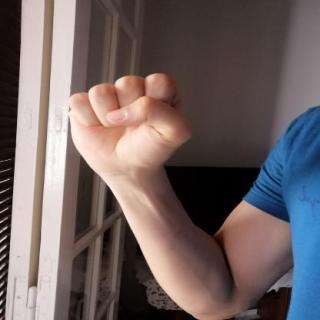SAD: (56, 62, 206, 182)
